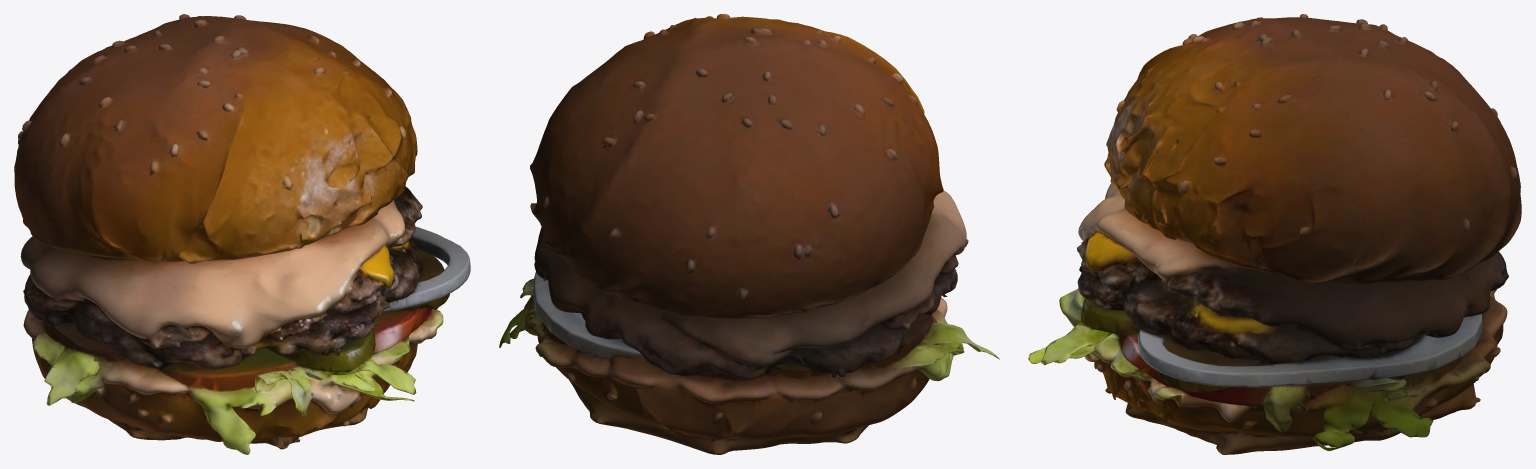
Rendered from hamburger-simplificado-tamanho-real.glb.
3 renders of one model, left to right at view 1: azimuth 30°, elevation 25°; view 2: azimuth 150°, elevation 25°; view 3: azimuth 270°, elevation 25°, orthographic. The views are drawn at different scales.
Visible parts, largest first — view 1: tripo_node_fdbde4fa-7a82-46e0-aa46-09a35e8c473f; view 2: tripo_node_fdbde4fa-7a82-46e0-aa46-09a35e8c473f; view 3: tripo_node_fdbde4fa-7a82-46e0-aa46-09a35e8c473f.
Boxes of the visible parts, box(x1,y1,x2,y2) form: tripo_node_fdbde4fa-7a82-46e0-aa46-09a35e8c473f: box(14, 14, 470, 454); tripo_node_fdbde4fa-7a82-46e0-aa46-09a35e8c473f: box(499, 14, 999, 454); tripo_node_fdbde4fa-7a82-46e0-aa46-09a35e8c473f: box(1028, 14, 1521, 454).
Size of the model in its own units: 1 by 0.8 by 1.
1 material, 1 textured.
